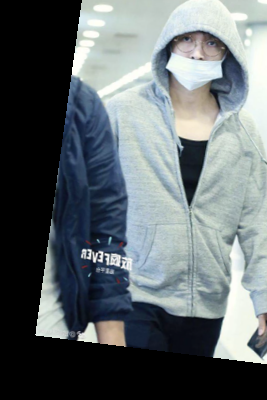mask_weared_incorrect: (152, 4, 255, 101)
